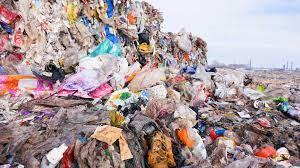Trash: (0, 1, 300, 168)
